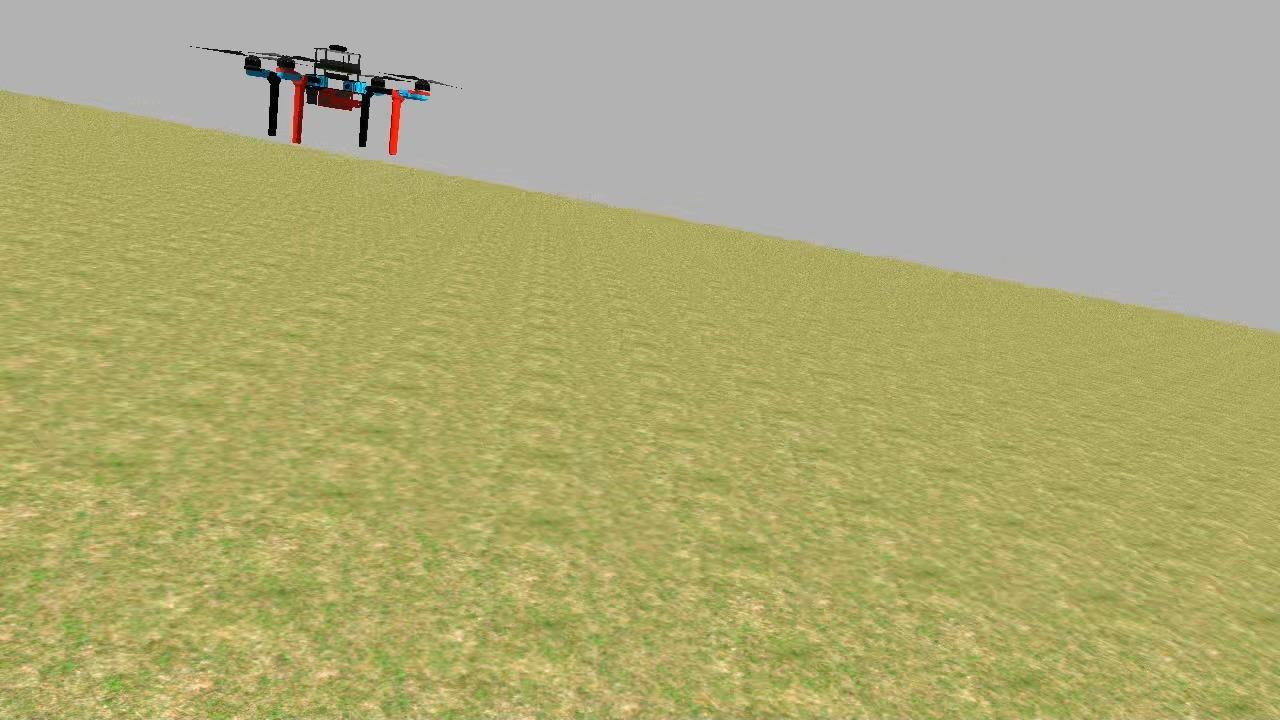UAV: (238, 36, 438, 156)
